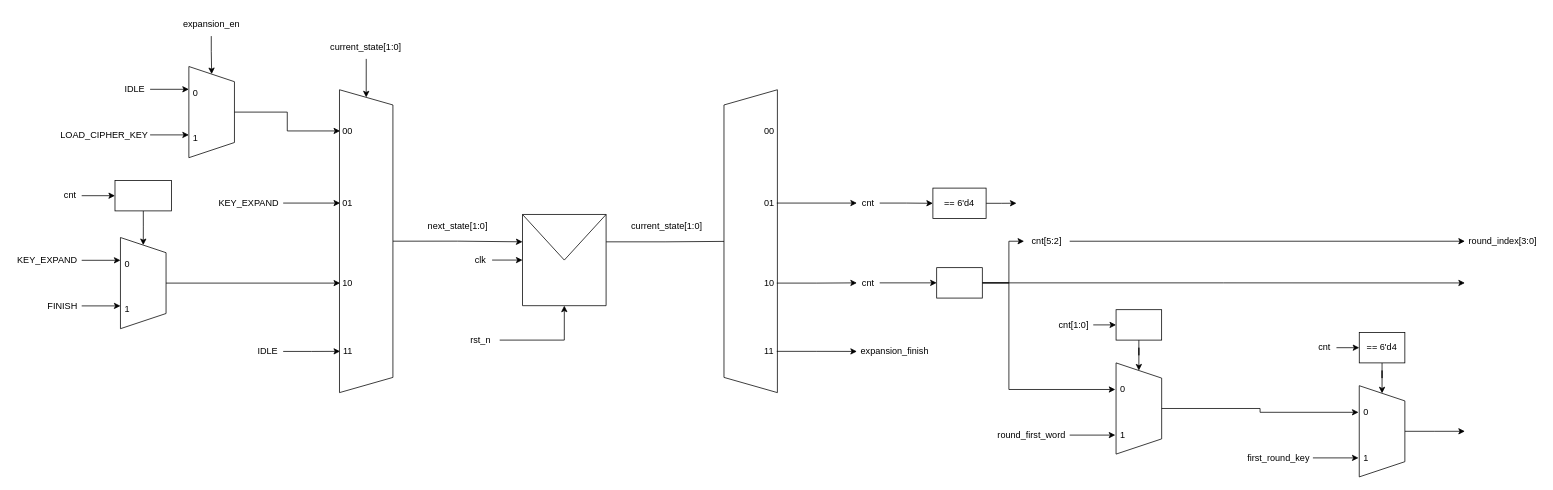
This 1553x490 diagram has some shape labels left out. Here are the shapes that lost their labels. From the top down, the centre of each, then its label:
At point (143, 195): "== 6'd43".
At point (959, 282): "cnt++".
At point (1138, 324): "== 2'b00".
